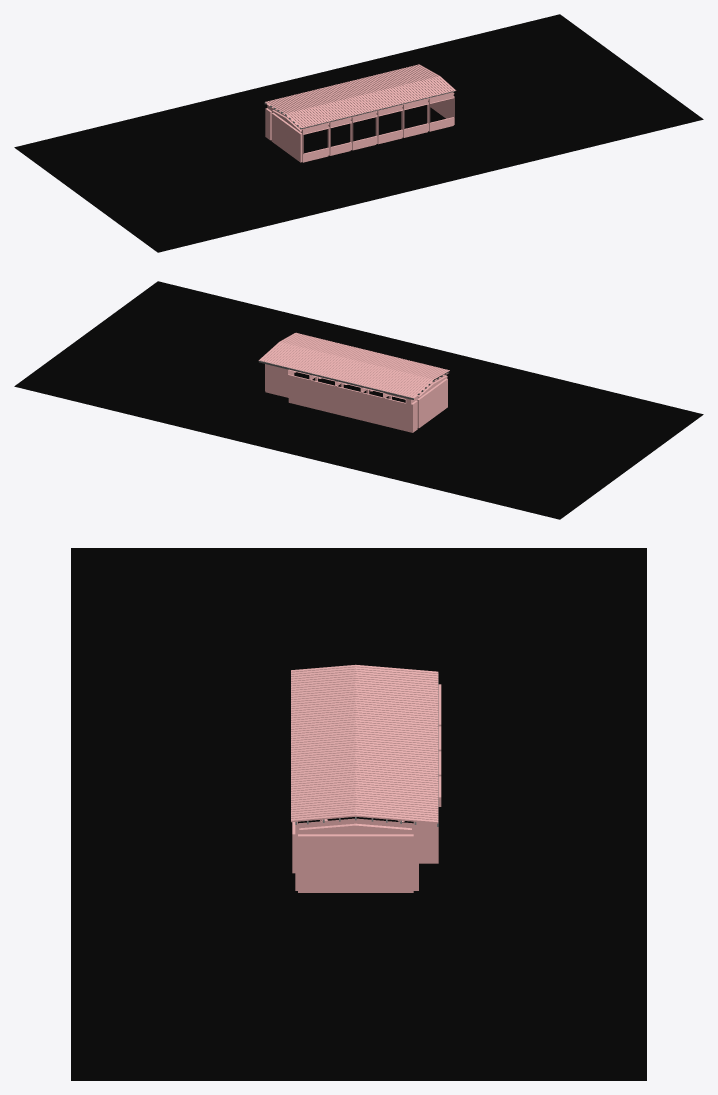
The model's file is inter.obj.
3 views of the same model, one above another, from view 1: azimuth 30°, elevation 25°; view 2: azimuth 150°, elevation 25°; view 3: azimuth 270°, elevation 25° (orthographic). The views are drawn at different scales.
Parts seen in each view (by area): view 1: ground, roof, con; view 2: ground, con, roof, iron; view 3: ground, roof, con.
Boxes of the visible parts, x1=… form: ground: x1=14, y1=14, x2=703, y2=252; roof: x1=265, y1=64, x2=456, y2=127; con: x1=265, y1=92, x2=454, y2=162; ground: x1=14, y1=281, x2=703, y2=519; con: x1=265, y1=364, x2=448, y2=432; roof: x1=258, y1=332, x2=449, y2=397; iron: x1=258, y1=360, x2=449, y2=399; ground: x1=71, y1=548, x2=646, y2=1080; roof: x1=291, y1=664, x2=438, y2=823; con: x1=292, y1=684, x2=441, y2=892.
Bounding box in the file's own units: 88.05 × 5.94 × 40.2.
